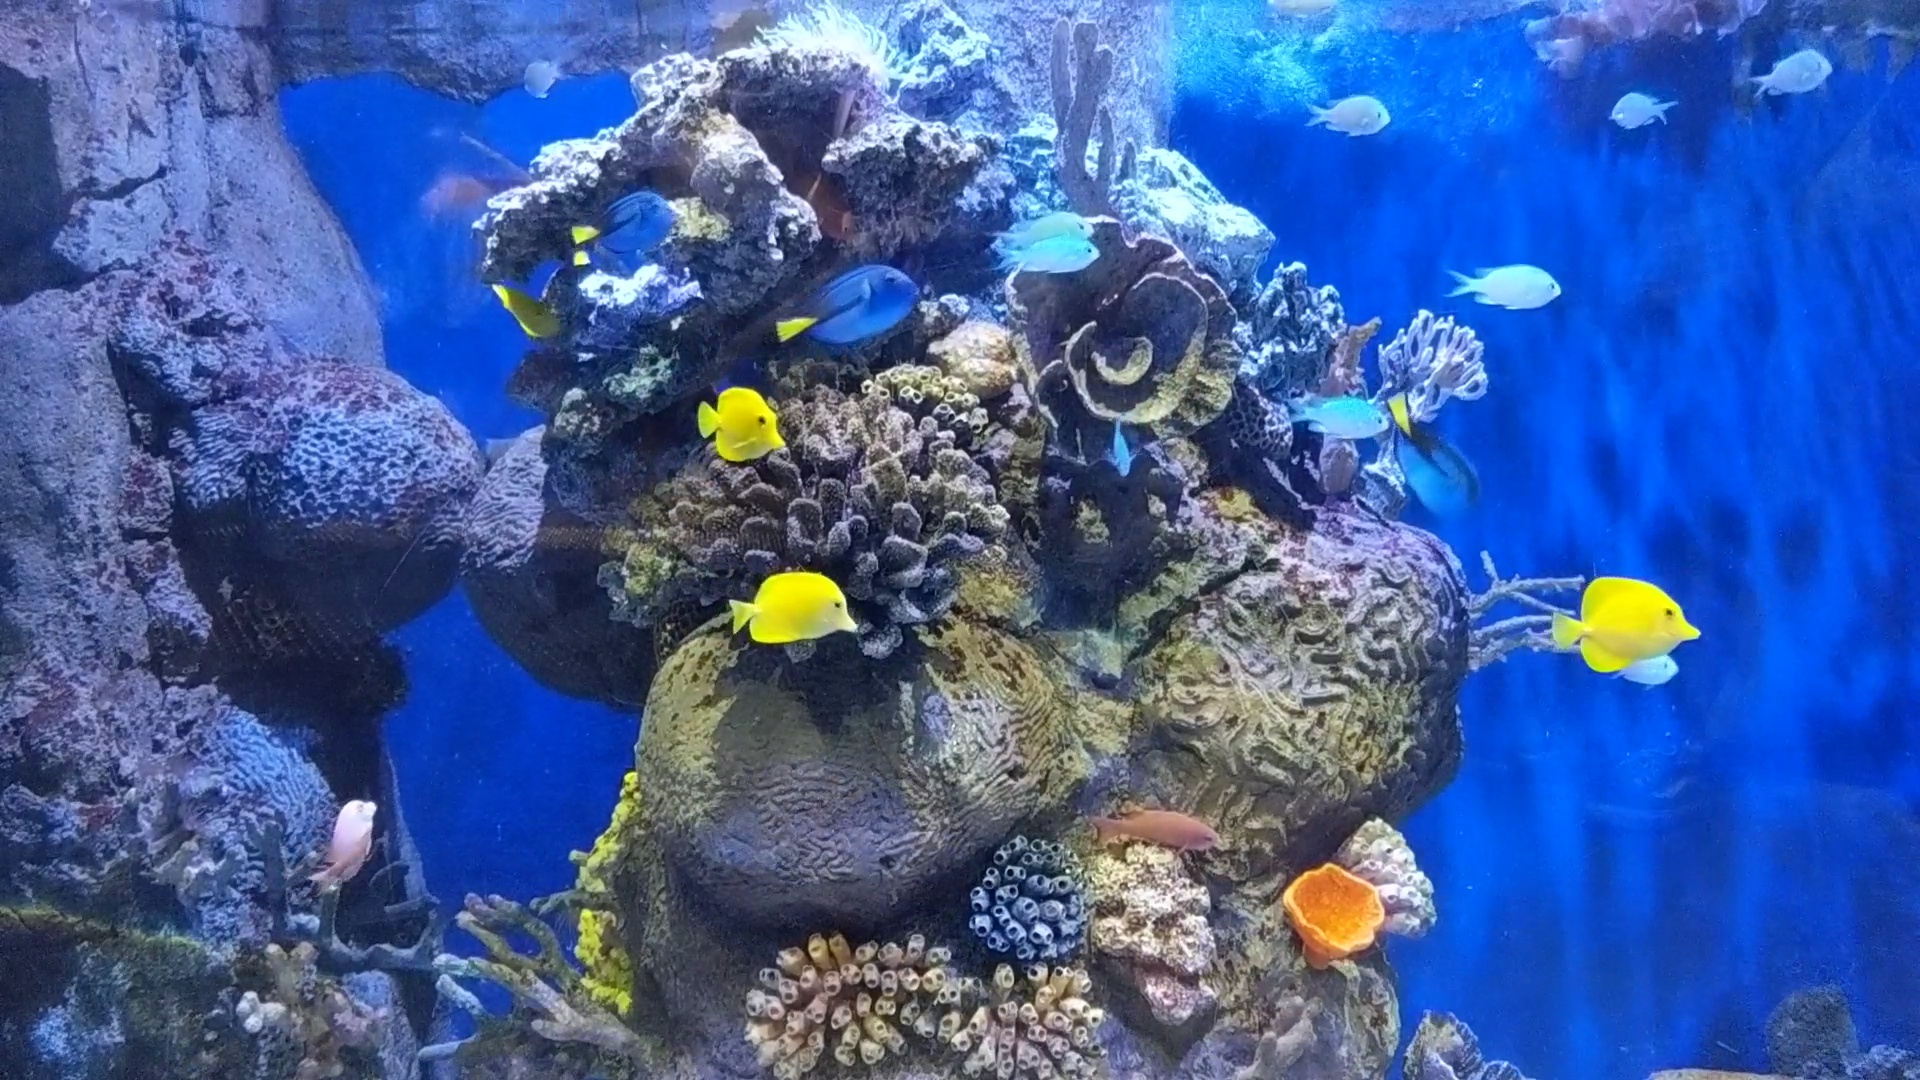blue tang surgeonfish: (765, 257, 924, 361), (1393, 386, 1495, 520), (568, 189, 690, 264)
damselfish: (1443, 262, 1567, 316), (1283, 386, 1390, 443), (988, 233, 1109, 280), (1735, 51, 1842, 100), (1298, 92, 1399, 142), (996, 204, 1101, 251), (1607, 634, 1675, 704), (1610, 84, 1675, 137), (1087, 411, 1137, 477), (512, 58, 567, 108)
saddle butterfly fish: (1549, 568, 1704, 676), (690, 378, 791, 472), (728, 571, 861, 641), (476, 266, 580, 343)
